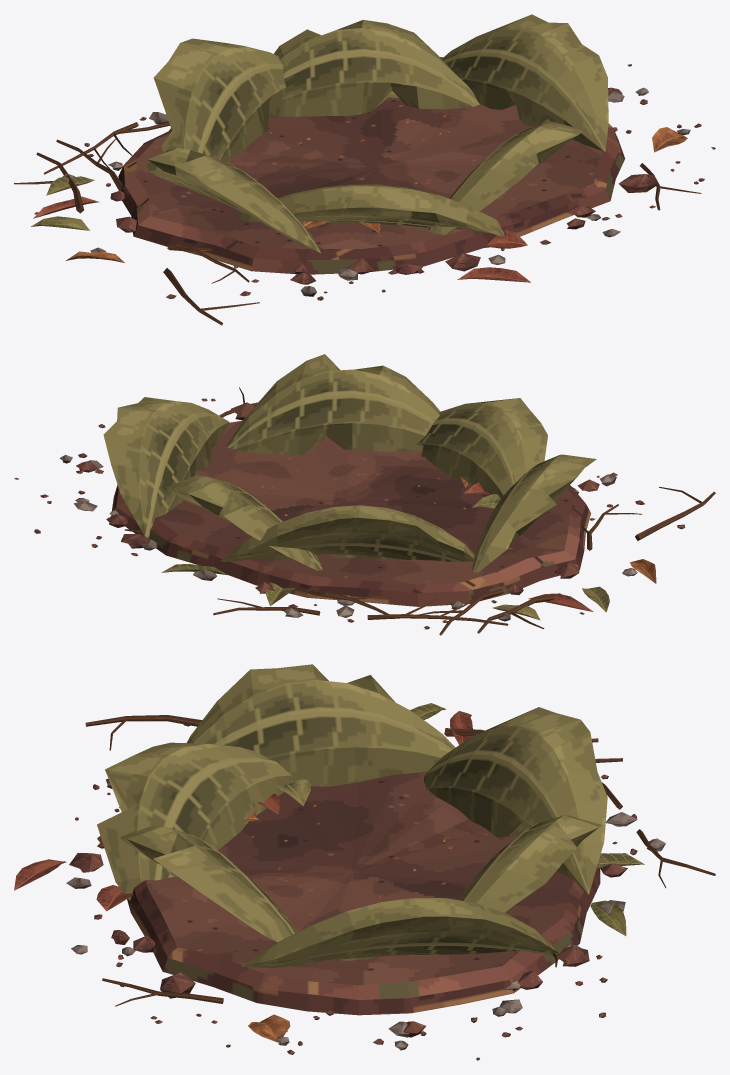
File: SM_AN32_LeafNest.fbx
3 renders of one model, top to bottom at view 1: azimuth 30°, elevation 25°; view 2: azimuth 150°, elevation 25°; view 3: azimuth 270°, elevation 25°, orthographic. The views are drawn at different scales.
Visible parts, largest first — view 1: AN32a_Props, AN32a_Floor, AN32a_Earth; view 2: AN32a_Props, AN32a_Floor, AN32a_Earth; view 3: AN32a_Props, AN32a_Floor, AN32a_Earth.
Boxes of the visible parts, <box> form: AN32a_Props: <box>14,14,715,325</box>; AN32a_Floor: <box>136,97,607,249</box>; AN32a_Earth: <box>118,123,625,274</box>; AN32a_Props: <box>14,354,715,635</box>; AN32a_Floor: <box>155,420,574,584</box>; AN32a_Earth: <box>111,485,590,606</box>; AN32a_Props: <box>14,664,715,1060</box>; AN32a_Floor: <box>145,771,574,985</box>; AN32a_Earth: <box>127,863,600,1015</box>.
Size of the model in its own units: 2.64 by 0.4458 by 2.18.
